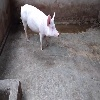heo: (19, 3, 61, 53)
